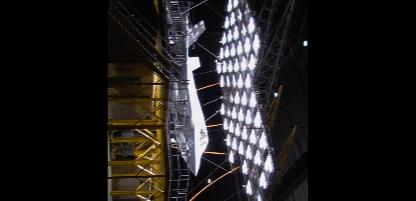F22: (168, 7, 209, 176)
